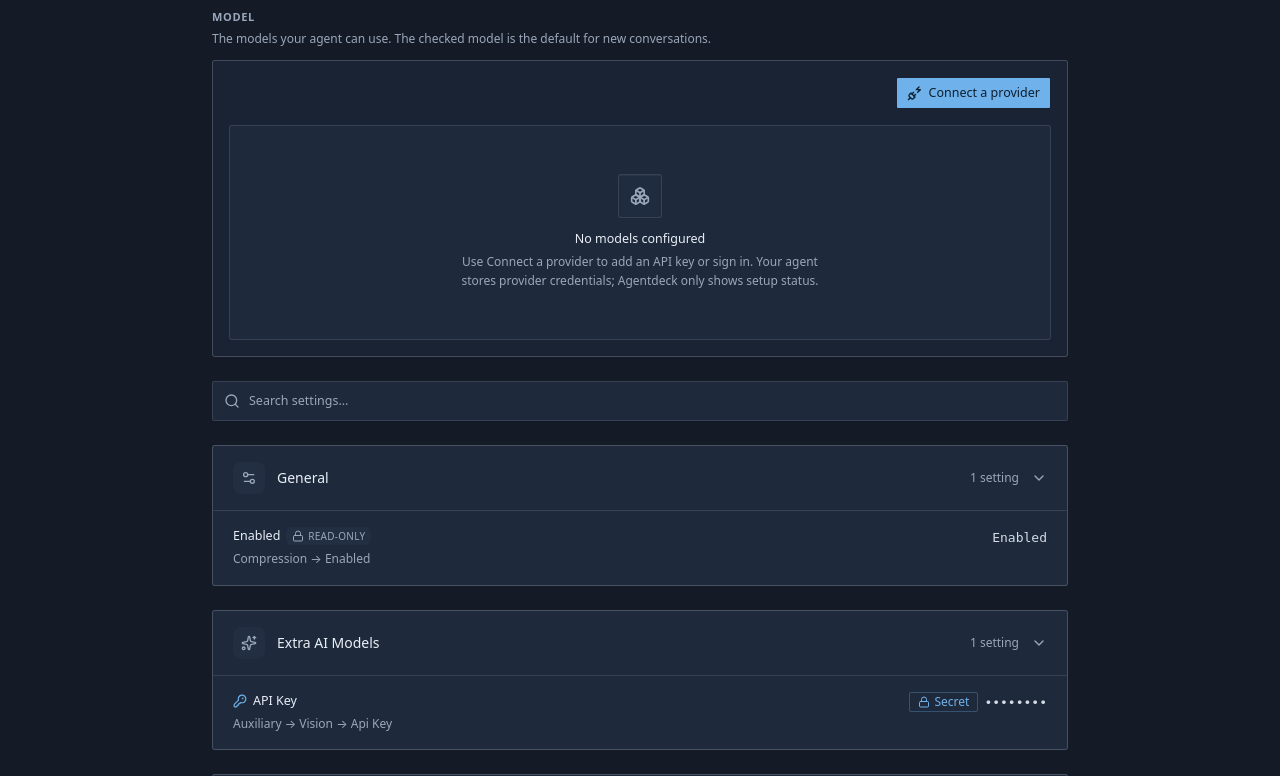
Test: SettingsPage › filters fields by a free-text search, hiding non-matching sections
This screenshot has width=1280, height=776.
(page scrolled)
Expected: the heading "General" is shown, [277,468,329,488]
Type "allowlist" into the search field labelled "Search settings…".
click(640, 401); type("allowlist")  # box [212,381,1068,421]
(page scrolled)
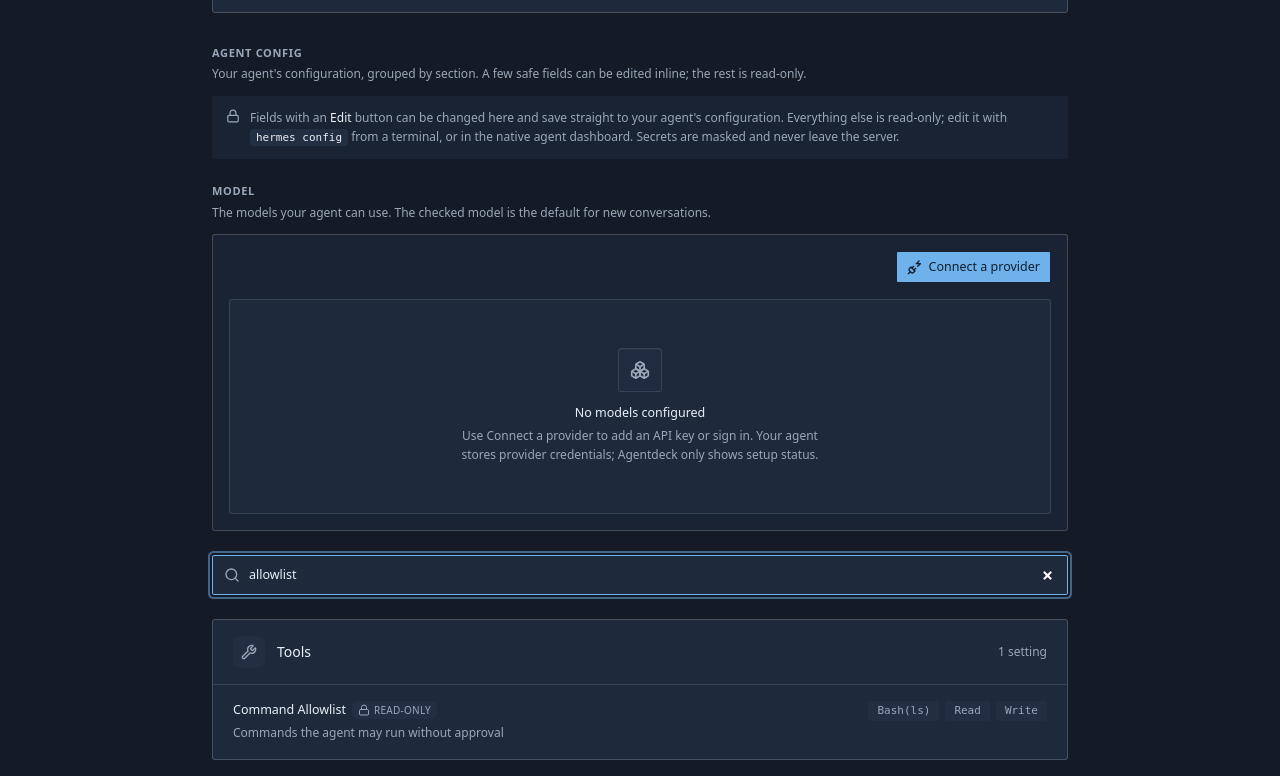
Expected: the text "Command Allowlist" is shown, [233,701,346,718]
Expected: the button "Extra AI Models" is gone
Expected: the button "General" is gone
